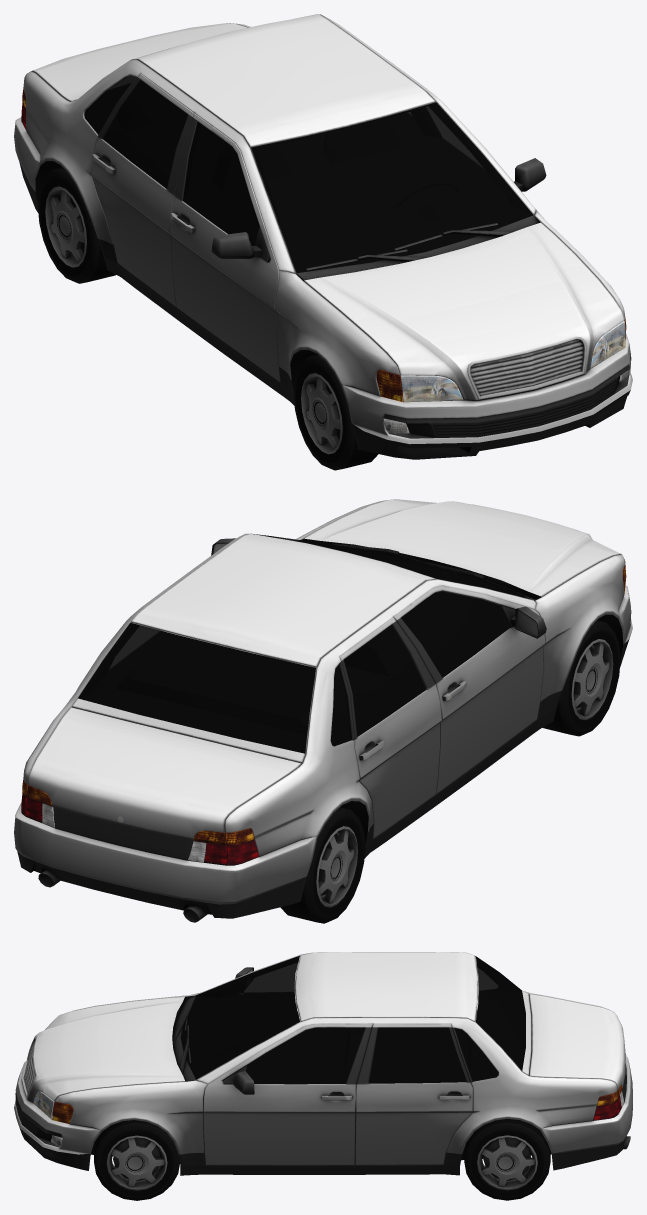
File: sedan.glb
3 renders of one model, top to bottom at view 1: azimuth 30°, elevation 25°; view 2: azimuth 150°, elevation 25°; view 3: azimuth 270°, elevation 25°, orthographic. The views are drawn at different scales.
Visible parts, largest first — view 1: Sedan Body_Body_0, Sedan Body_Glass_0, Door skin and glass (×3), TyreRim (×2), Lamp head; view 2: Sedan Body_Body_0, Sedan Body_Glass_0, Door skin and glass (×2), TyreRim (×2), Lamp brake; view 3: Sedan Body_Body_0, Door skin and glass (×4), Sedan Body_Glass_0, TyreRim (×2), Lamp head, Lamp brake.
Boxes of the visible parts, x1,y1,x2,y2 form: Sedan Body_Body_0: [14, 14, 632, 459]; Sedan Body_Glass_0: [84, 75, 533, 272]; Door skin and glass (×3): [167, 82, 546, 387]; TyreRim (×2): [38, 167, 378, 470]; Lamp head: [376, 316, 630, 433]; Sedan Body_Body_0: [14, 499, 632, 922]; Sedan Body_Glass_0: [78, 534, 531, 753]; Door skin and glass (×2): [385, 585, 554, 793]; TyreRim (×2): [280, 620, 620, 923]; Lamp brake: [21, 779, 258, 865]; Sedan Body_Body_0: [14, 952, 632, 1175]; Door skin and glass (×4): [190, 963, 364, 1163]; Sedan Body_Glass_0: [180, 955, 525, 1083]; TyreRim (×2): [94, 1119, 550, 1200]; Lamp head: [33, 1091, 73, 1146]; Lamp brake: [593, 1085, 624, 1120].
Bounding box in the file's own units: 2.05 × 1.42 × 4.6.
Materials: 6 (4 with a texture image).
